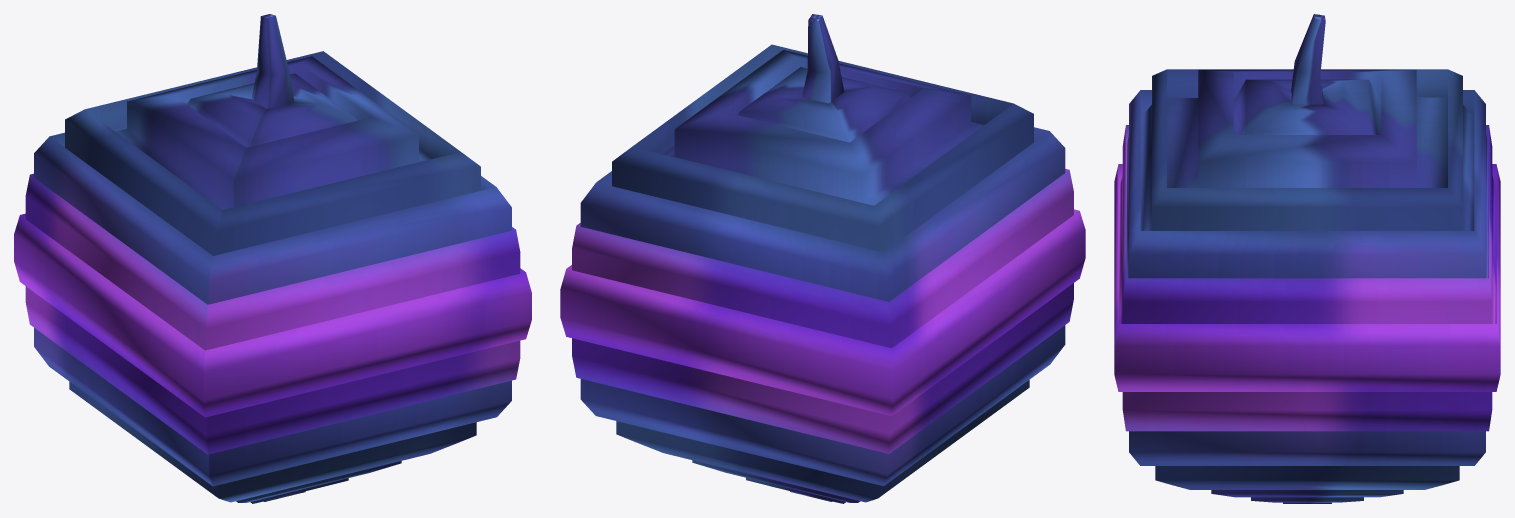
The model's file is hive_ext.glb.
3 views of the same model, side by side, from view 1: azimuth 30°, elevation 25°; view 2: azimuth 150°, elevation 25°; view 3: azimuth 270°, elevation 25° (orthographic). The views are drawn at different scales.
Parts seen in each view (by area): view 1: Cube; view 2: Cube; view 3: Cube.
Boxes of the visible parts, x1=… form: Cube: x1=14, y1=14, x2=531, y2=503; Cube: x1=560, y1=14, x2=1085, y2=503; Cube: x1=1114, y1=14, x2=1500, y2=503.
Bounding box in the file's own units: 2.96 × 4.05 × 2.96.
1 material, 1 textured.
